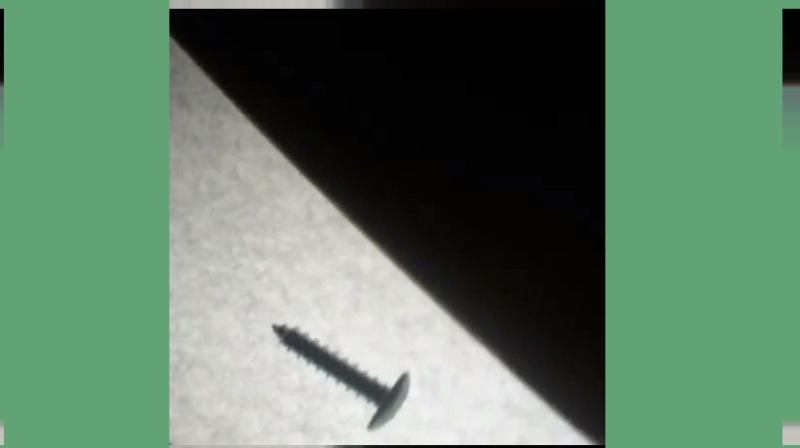S003: (268, 319, 415, 433)
